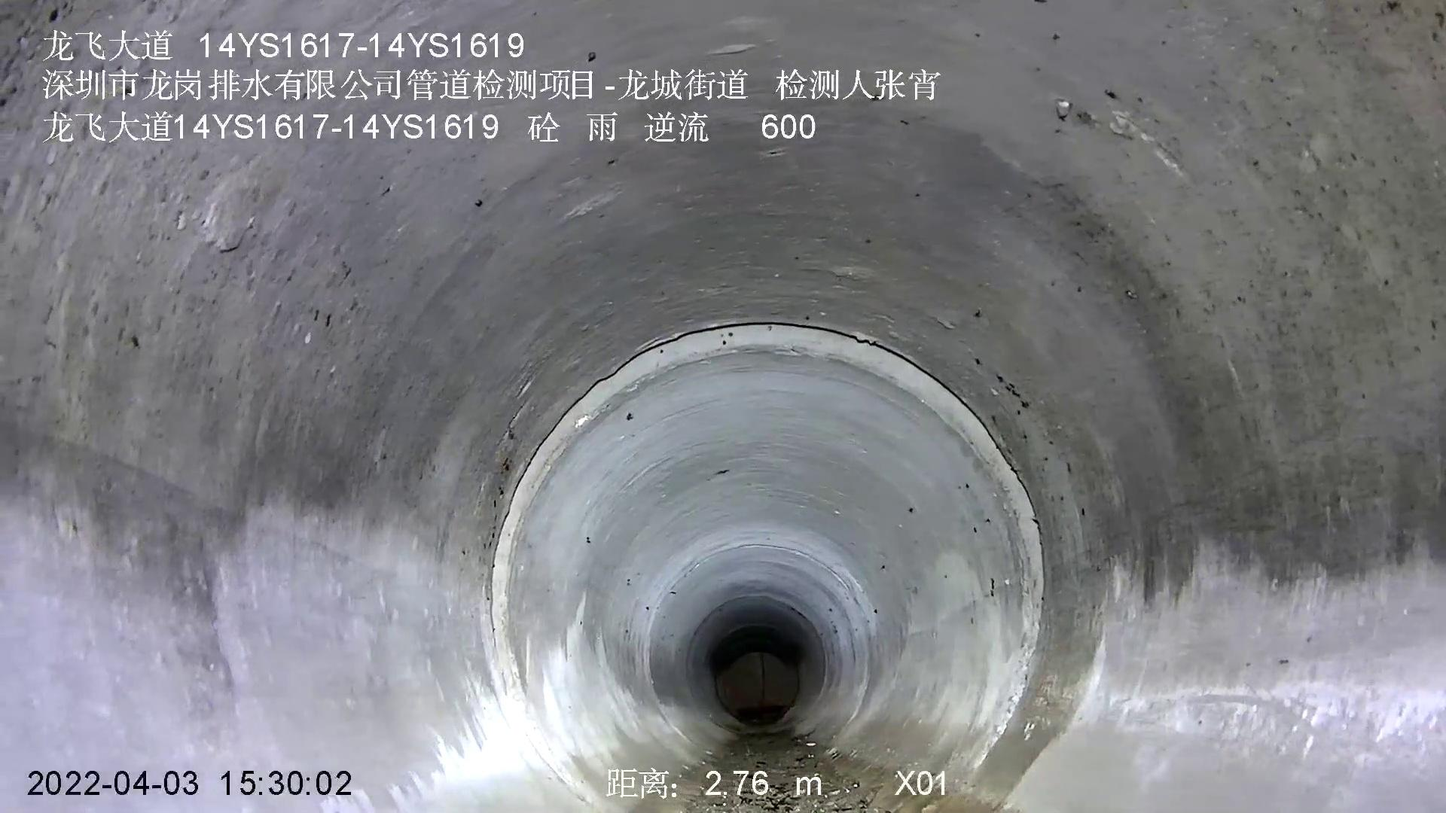CJ: (639, 731, 1004, 812)
CKTJ: (490, 322, 1044, 765)
